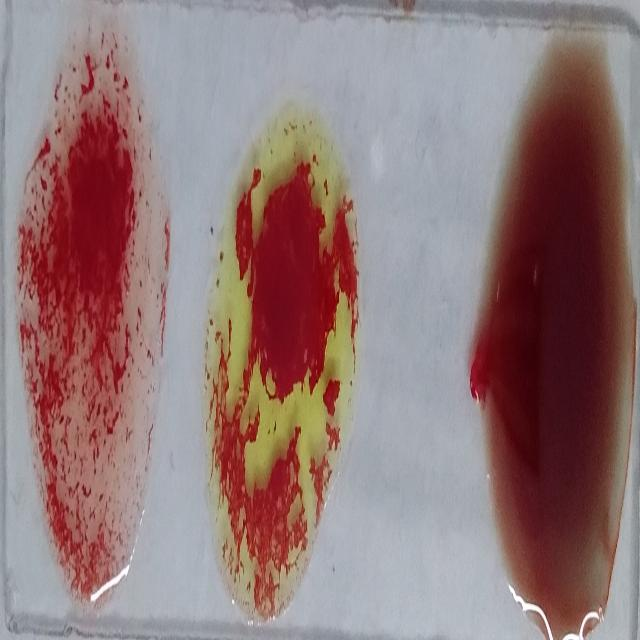B: (203, 106, 359, 626)
D: (16, 24, 172, 607)
